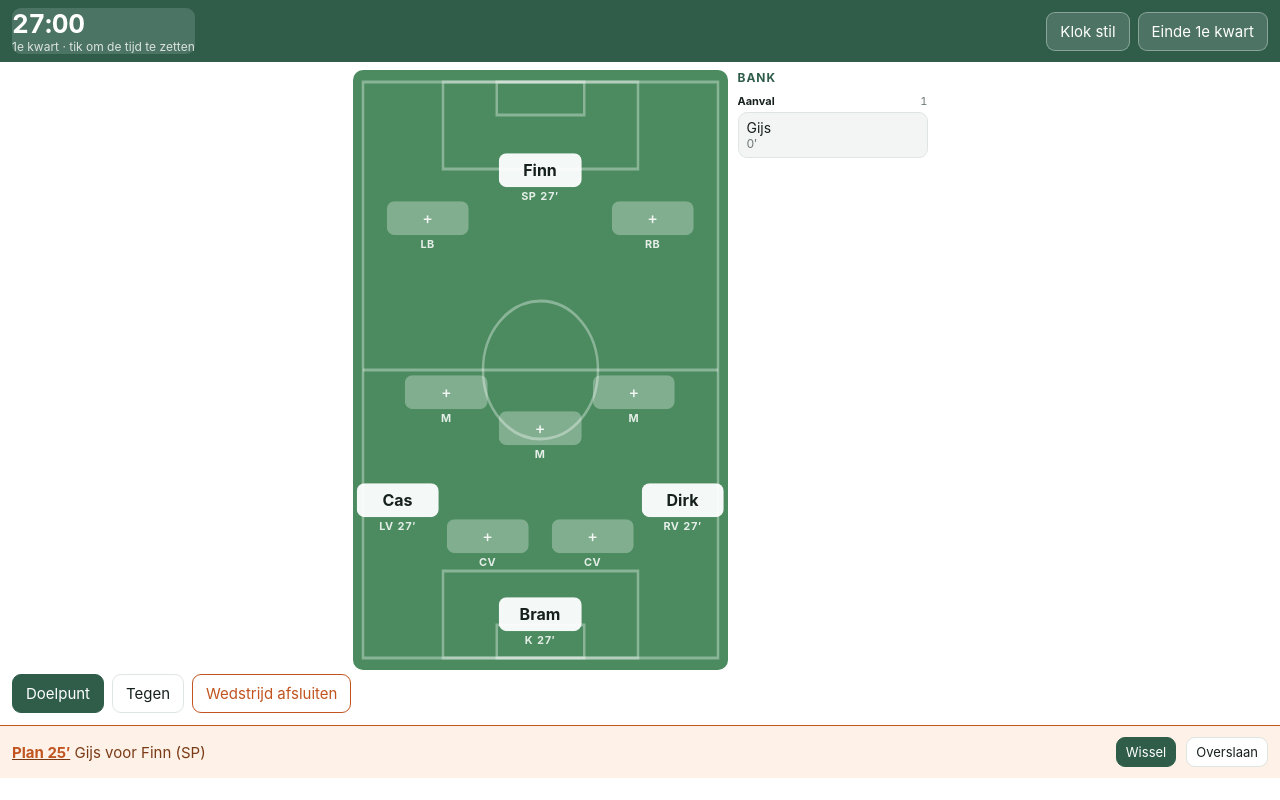
Test case: het wisselplan tijdens de wedstrijd › slaat een stap over
What coordinates should you click on to do the following:
click the button "Overslaan"
I would click on:
 (1227, 752)
Its box is [1186,737,1268,767].
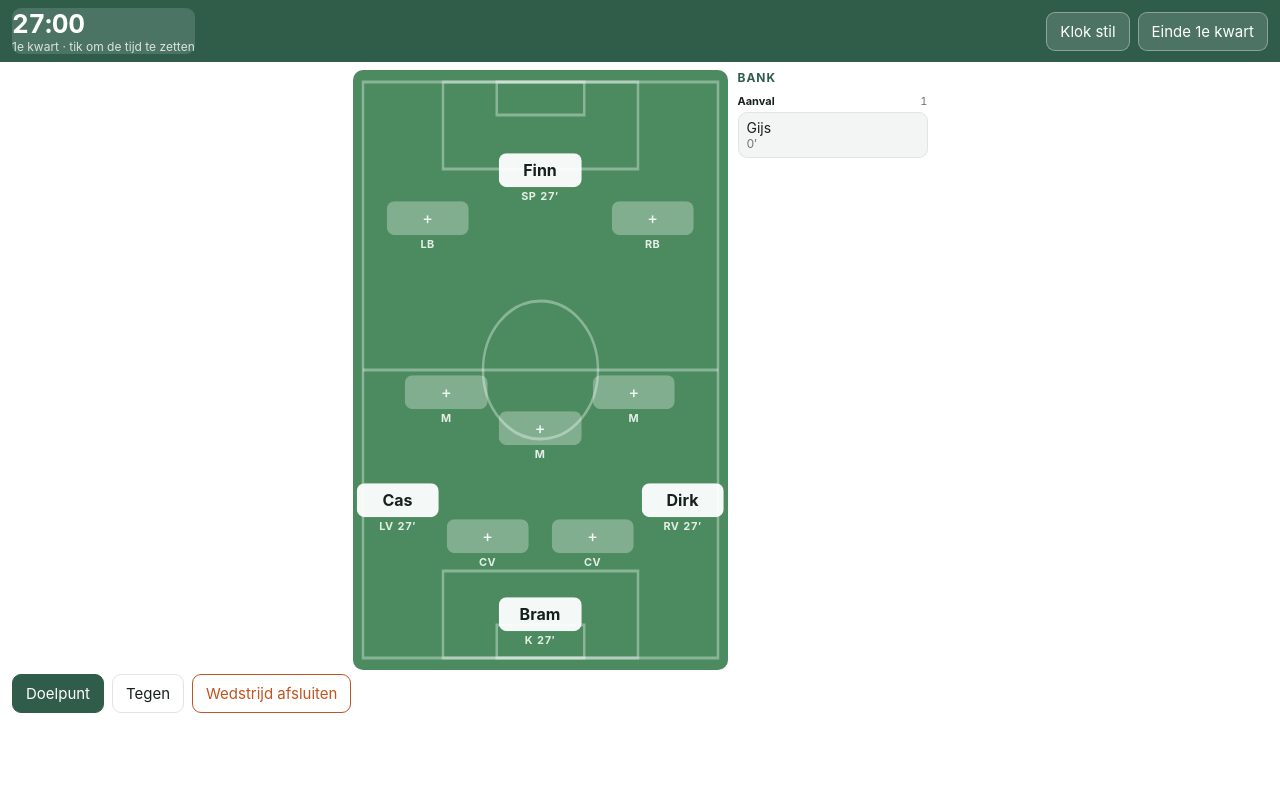
Now the element with class "melding" is gone
